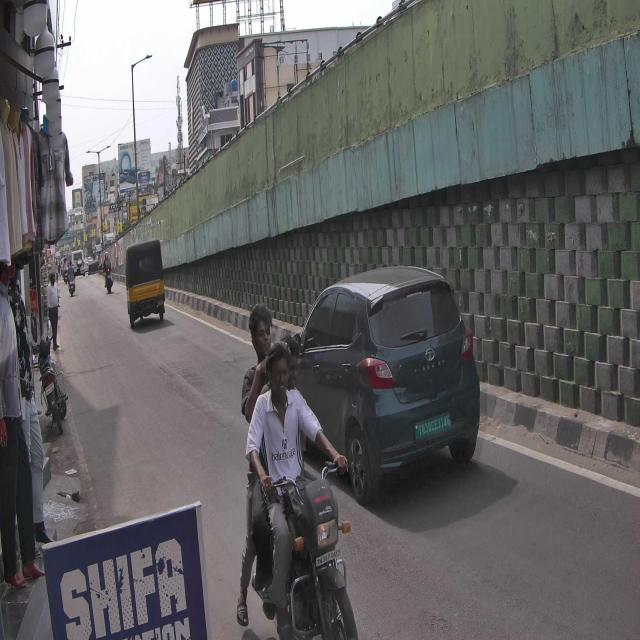triple_rider: (236, 299, 362, 640)
